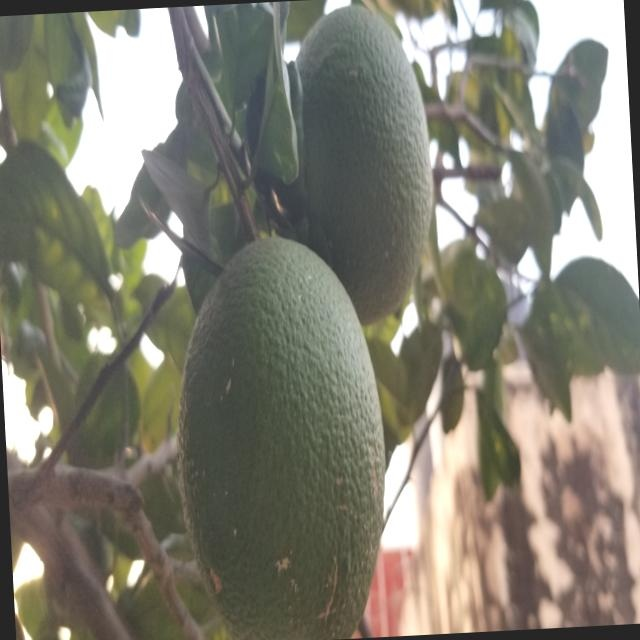agrume: (169, 225, 401, 640), (266, 0, 442, 338)
